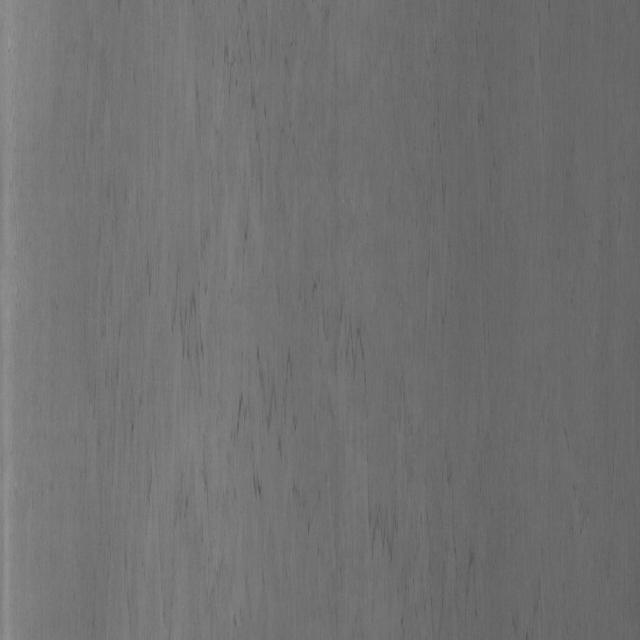inclusion: (172, 53, 378, 579)
